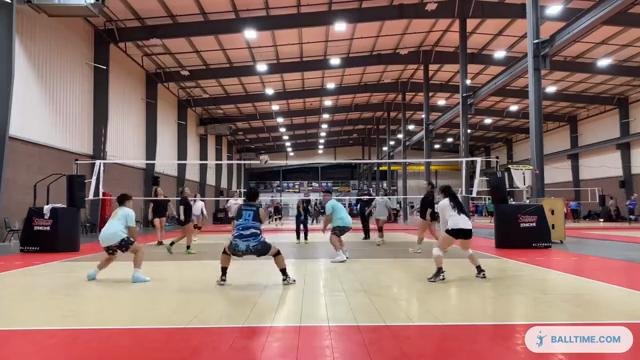Player: (87, 193, 149, 282), (428, 185, 485, 281), (322, 190, 351, 262), (409, 181, 437, 252), (166, 187, 195, 253), (149, 187, 174, 245), (368, 190, 391, 245), (192, 194, 208, 241), (225, 191, 241, 235)
Receive: (213, 184, 295, 287)
ball: (258, 152, 270, 166)
